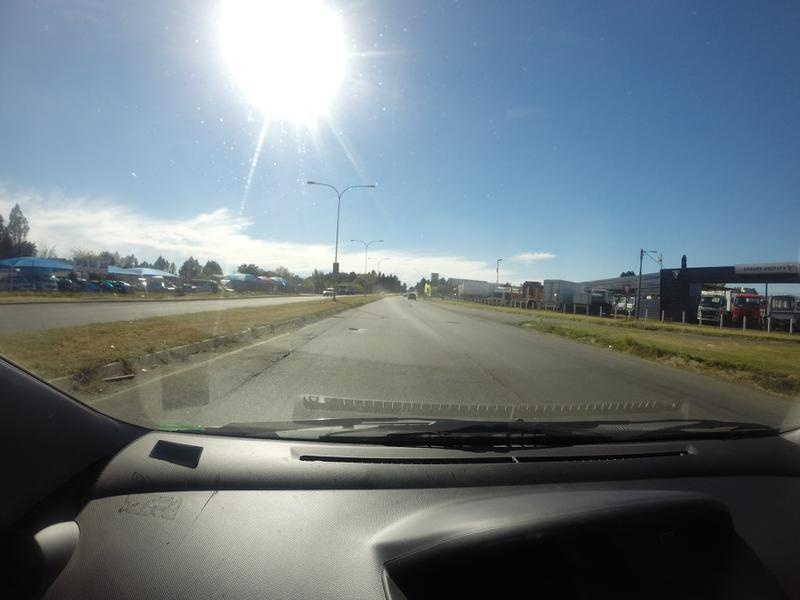pothole: (341, 324, 358, 332)
